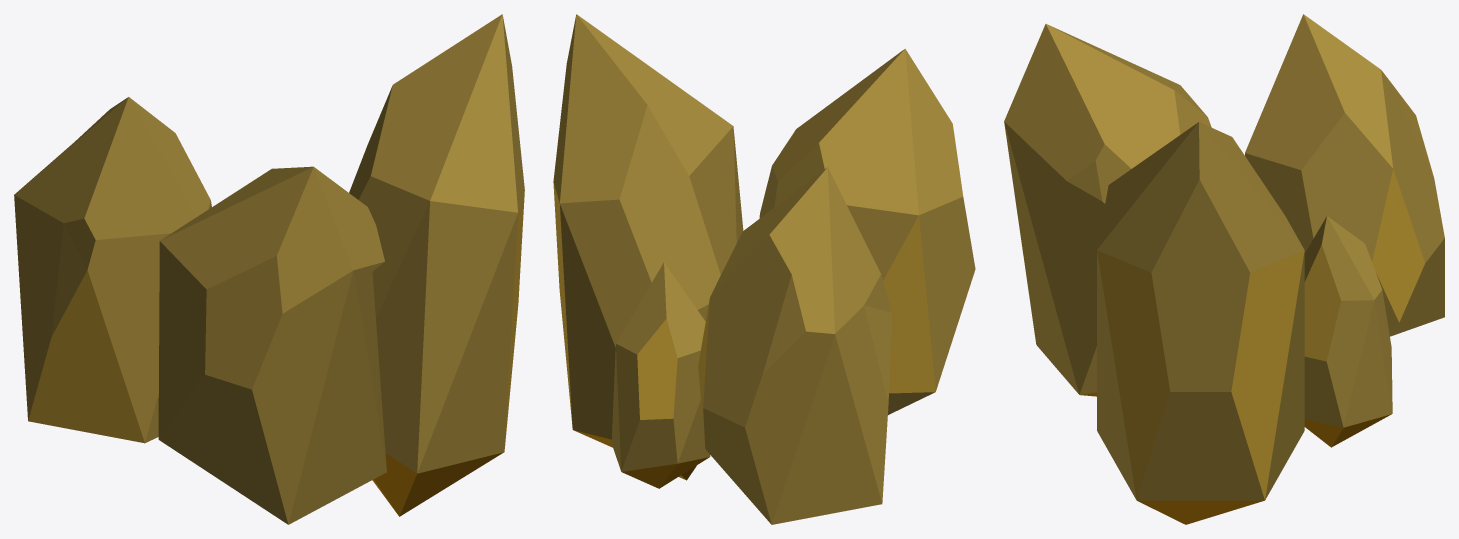
The model's file is ClayRock3.glb.
3 views of the same model, side by side, from view 1: azimuth 30°, elevation 25°; view 2: azimuth 150°, elevation 25°; view 3: azimuth 270°, elevation 25° (orthographic). The views are drawn at different scales.
Visible parts, largest first — view 1: ClayRock3; view 2: ClayRock3; view 3: ClayRock3.
Part boxes in pixels (x1,y1,x2,y2): ClayRock3: (14,14,524,524); ClayRock3: (553,14,975,524); ClayRock3: (1004,14,1444,524).
Size of the model in its own units: 0.8627 by 0.95 by 0.8343.
